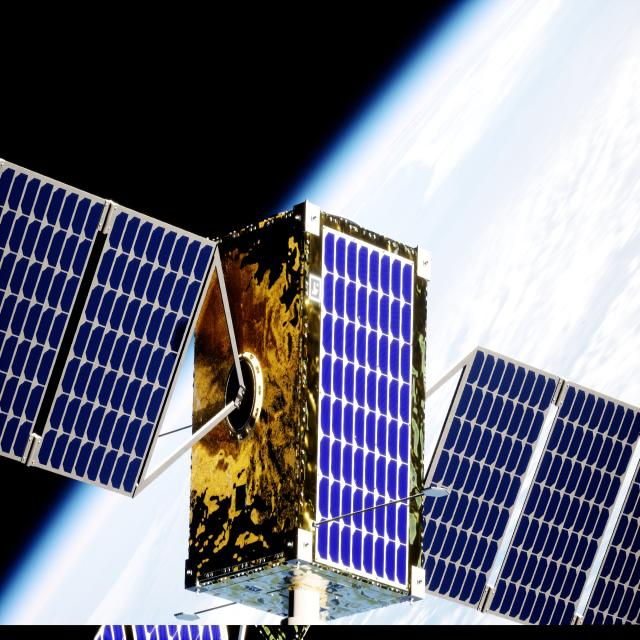medium_debris: (0, 161, 640, 627)
